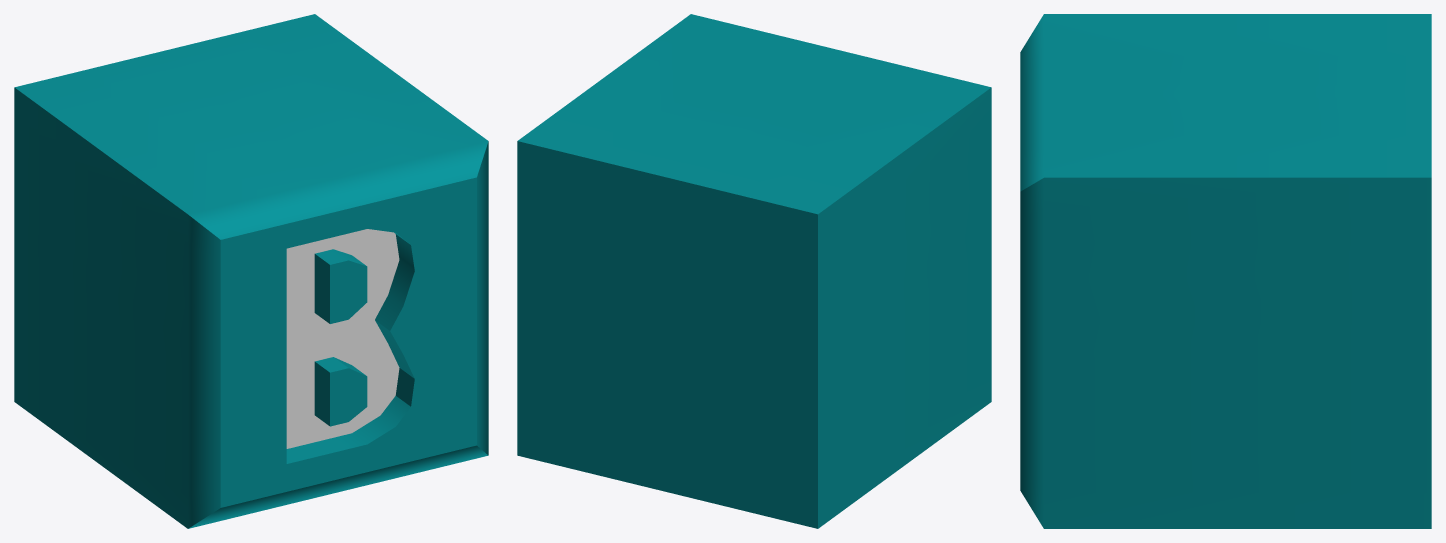
The model's file is B_block.fbx.
3 views of the same model, side by side, from view 1: azimuth 30°, elevation 25°; view 2: azimuth 150°, elevation 25°; view 3: azimuth 270°, elevation 25° (orthographic). The views are drawn at different scales.
Visible parts, largest first — view 1: pasted__pCube2; view 2: pasted__pCube2; view 3: pasted__pCube2.
Boxes of the visible parts, x1,y1,x2,y2 form: pasted__pCube2: [14, 14, 488, 528]; pasted__pCube2: [517, 14, 991, 528]; pasted__pCube2: [1020, 14, 1431, 528].
Size of the model in its own units: 1 by 1 by 1.06.
